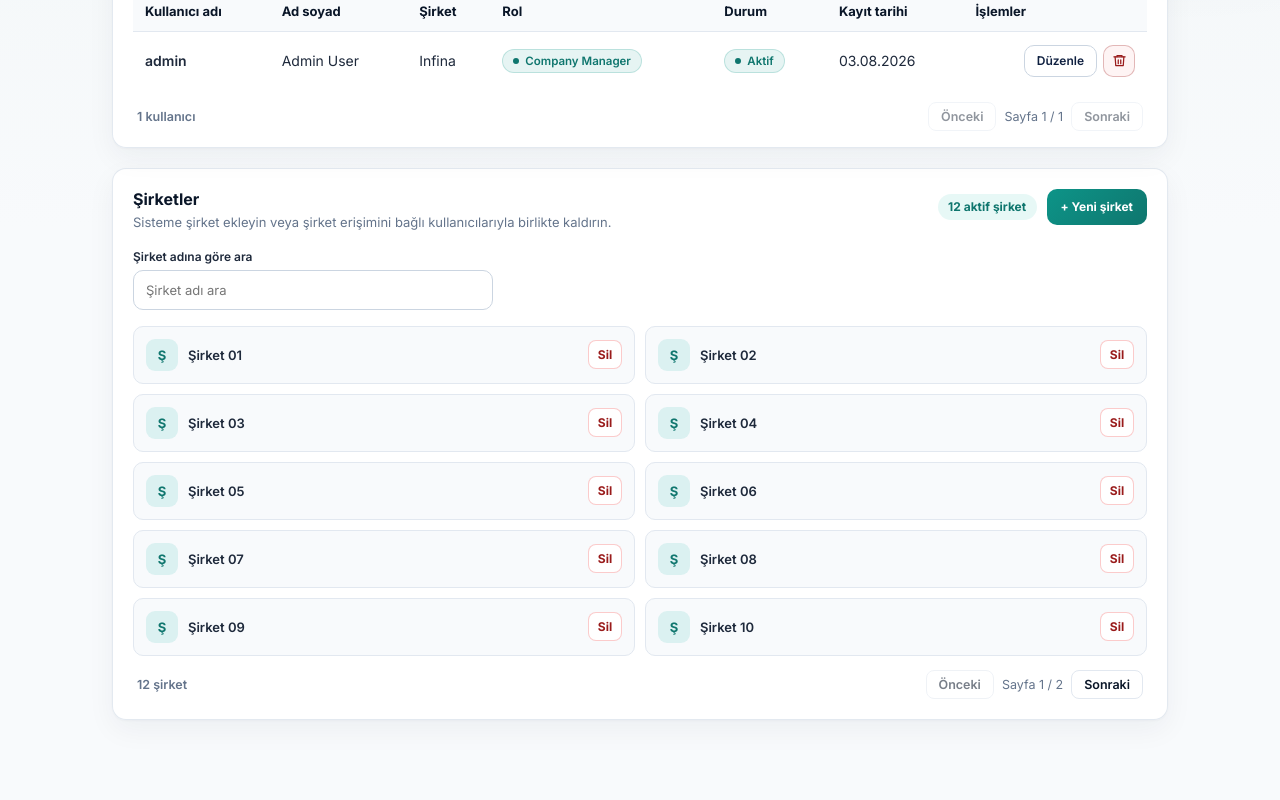
Test case: UsersPage › şirketleri ada göre arar ve sayfada en fazla on kayıt gösterir
The width and height of the screenshot is (1280, 800).
(page scrolled)
Check: the element "Şirketler" is shown, box [112,168,1168,720]
Check: the text "Sayfa 1 / 2" is shown, box [1002,677,1063,692]
Step 1. Click the 2nd button "Sonraki" → click(1107, 684), box [1071,670,1143,699]
(page scrolled)
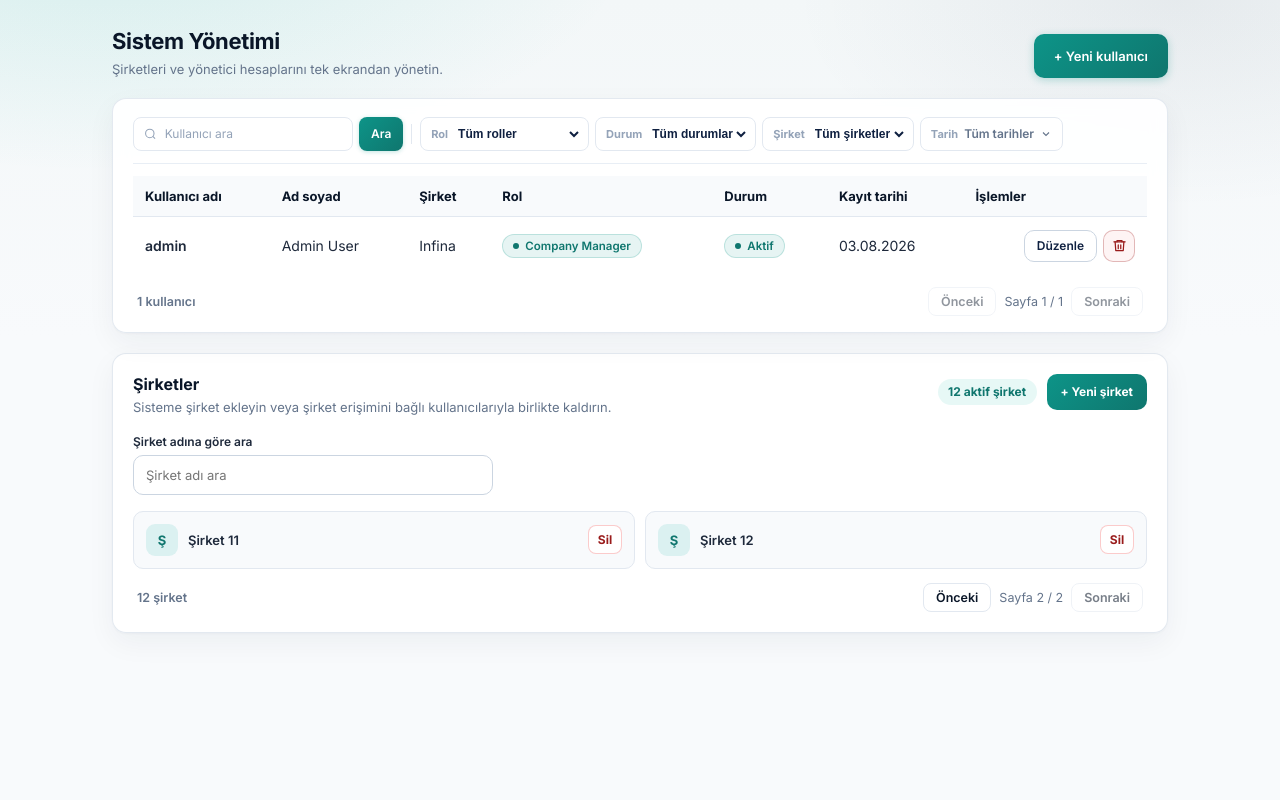
Check: the number of list items is 2, box [133,511,635,569]; [645,511,1147,569]
Check: the text "Şirket 11" is shown, box [188,532,239,548]
Step 2. Type "Şirket 02" into the search field labelled "Şirket adına göre ara" → (313, 475), box [133,455,493,495]
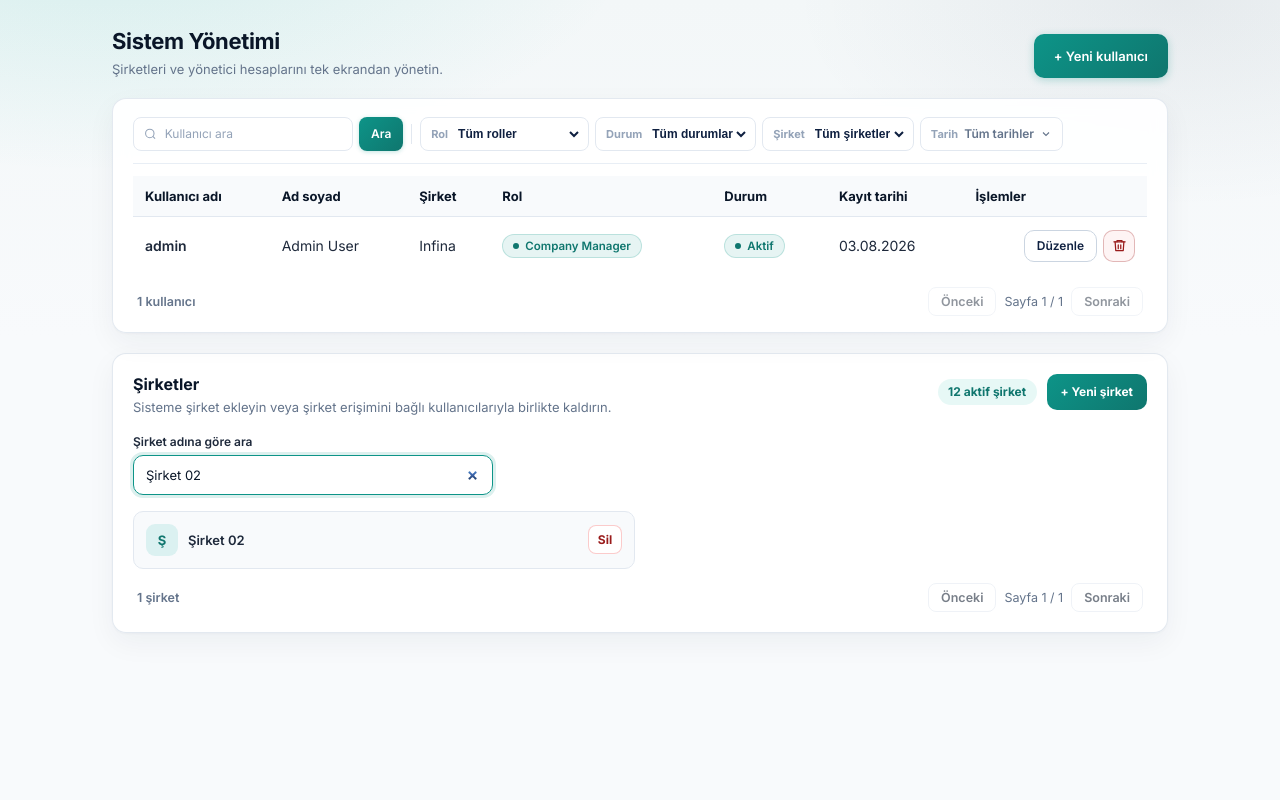
Check: the number of list items is 1, box [133,511,635,569]
Check: the text "Şirket 02" is shown, box [188,532,245,548]
Check: the text "Sayfa 1 / 1" below "12" is shown, box [1004,590,1063,605]
